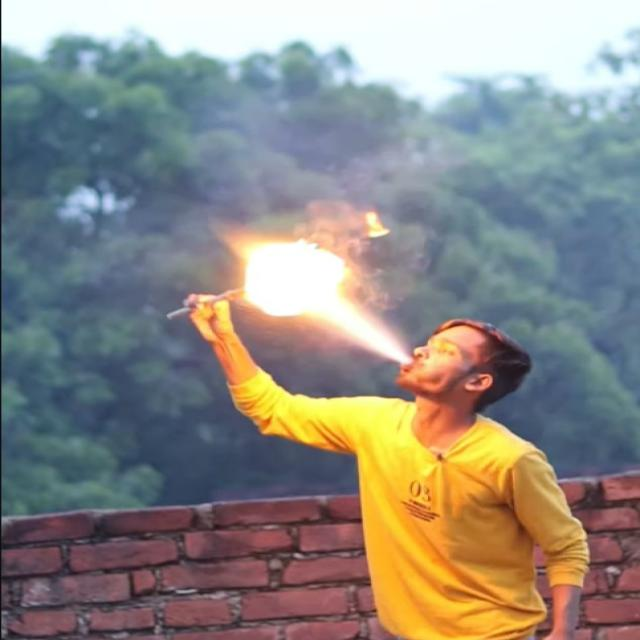fire: (244, 238, 392, 356)
